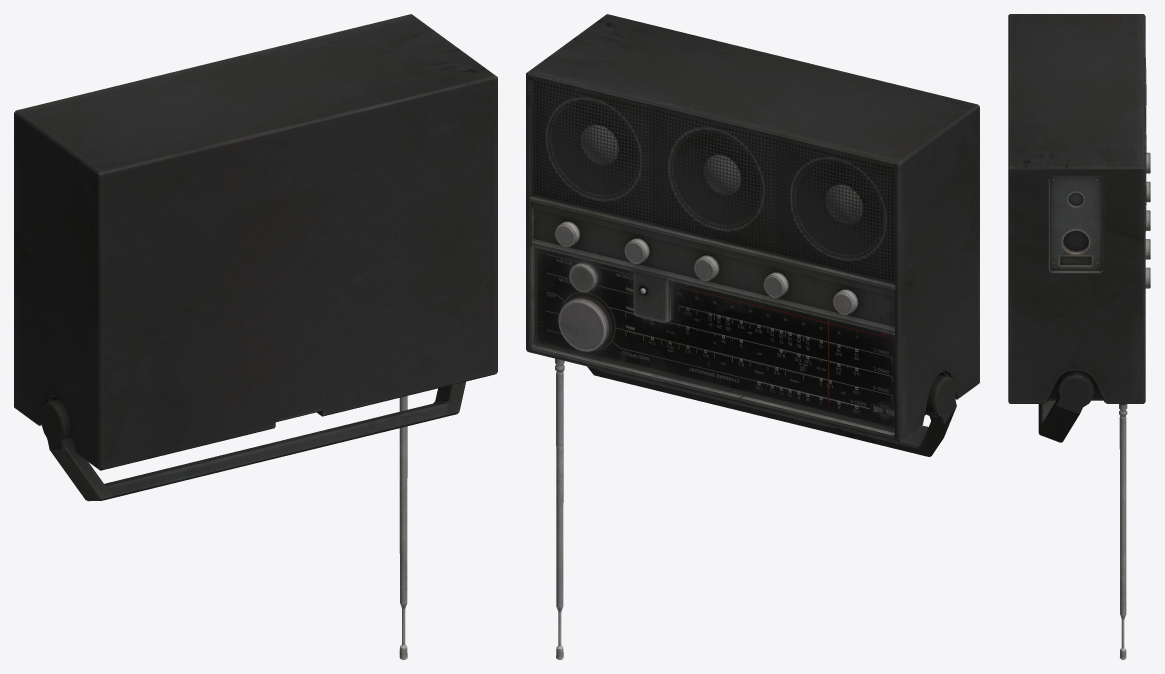
Rendered from ptish_radio.glb.
The picture shows the model from 3 angles, left to right: view 1: azimuth 30°, elevation 25°; view 2: azimuth 150°, elevation 25°; view 3: azimuth 270°, elevation 25°; orthographic projection. The views are drawn at different scales.
Visible parts, largest first — view 1: Radio; view 2: Radio; view 3: Radio.
Part boxes in pixels (x1=…): Radio: x1=14, y1=14, x2=497, y2=659; Radio: x1=526, y1=14, x2=979, y2=659; Radio: x1=1008, y1=14, x2=1150, y2=659.
Size of the model in its own units: 36 by 52.8 by 13.65.
1 material, 1 textured.
